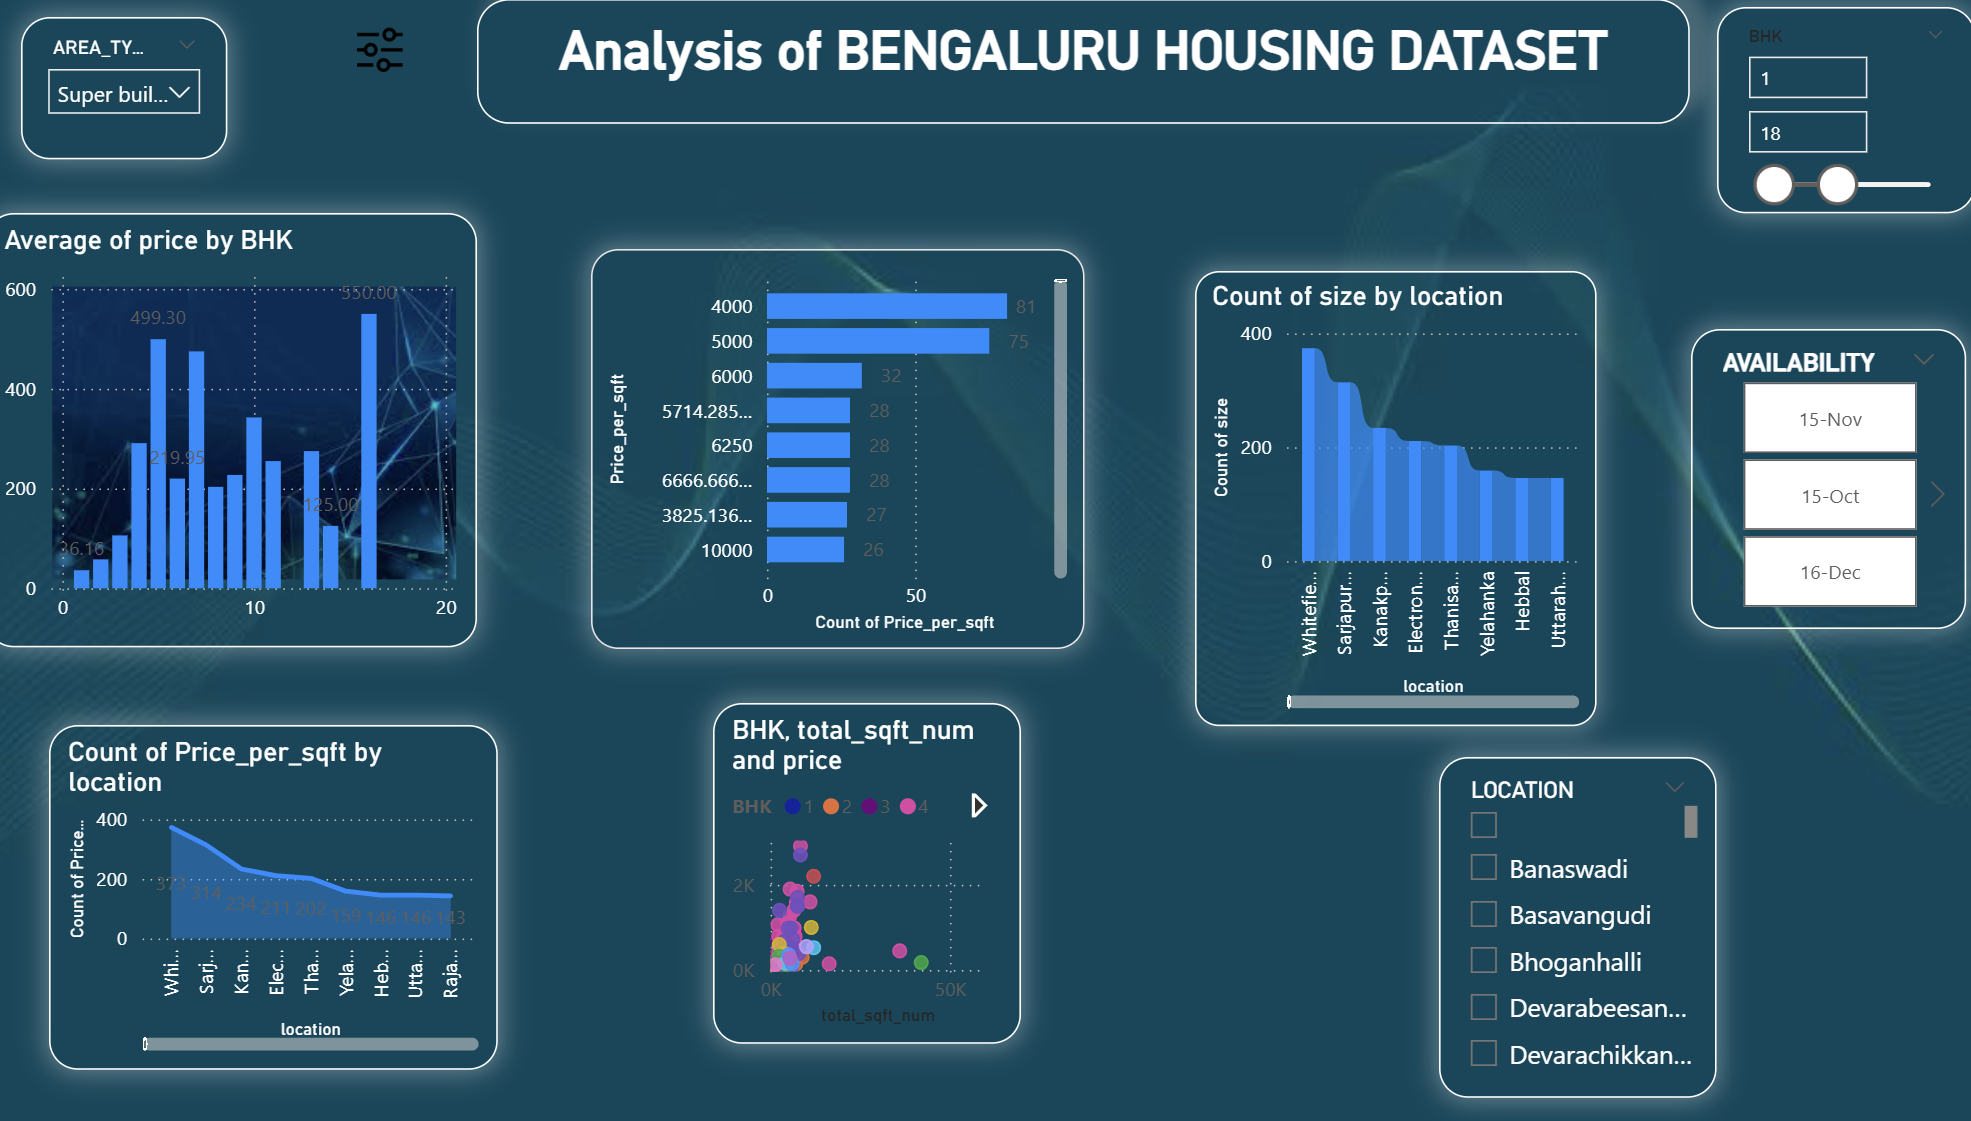

The page's visual inventory and layout, read from the dashboard file:
{"tool":"powerbi","page":{"name":"Dashboard","canvas":[1280,720],"ordinal":0},"visuals":[{"type":"textbox","box":[309,10.5,758.2,78],"z":2000},{"type":"clusteredColumnChart","fields":{"Category":["Bengaluru_House_Data_new.BHK"],"Y":["Avg(Bengaluru_House_Data_new.price)"]},"box":[1.3,144.1,307.3,271.6],"z":3000},{"type":"clusteredBarChart","fields":{"Category":["Bengaluru_House_Data_new.Price_per_sqft"],"Y":["CountNonNull(Bengaluru_House_Data_new.Price_per_sqft)"]},"box":[379.9,165.7,308.5,249.9],"z":4000},{"type":"ribbonChart","fields":{"Category":["Bengaluru_House_Data_new.location"],"Y":["CountNonNull(Bengaluru_House_Data_new.size)"]},"box":[757.3,179.8,251.2,284.3],"z":5000},{"type":"stackedAreaChart","fields":{"Category":["Bengaluru_House_Data_new.location"],"Y":["CountNonNull(Bengaluru_House_Data_new.Price_per_sqft)"]},"box":[40.8,464.1,280.5,215.5],"z":6000},{"type":"scatterChart","fields":{"X":["Bengaluru_House_Data_new.total_sqft_num"],"Y":["Bengaluru_House_Data_new.price"],"Series":["Bengaluru_House_Data_new.BHK"]},"box":[456.4,450,192.5,212.9],"z":7000},{"type":"slicer","fields":{"Values":["Bengaluru_House_Data_new.location"]},"box":[910.3,483.2,173.4,212.9],"z":8000},{"type":"slicer","fields":{"Values":["Bengaluru_House_Data_new.BHK"]},"box":[1083.8,15,161.2,128.8],"z":9000},{"type":"slicer","fields":{"Values":["Bengaluru_House_Data_new.area_type"]},"box":[24.2,21.7,128.8,89.2],"z":10000},{"type":"slicer","fields":{"Values":["Bengaluru_House_Data_new.availability"]},"box":[1067.1,216.7,172.1,187.4],"z":11000}]}

Visuals, with their boxes in screenshot pixels (x1, y1, x2, y2), scaled from the page's 1280x720 canvas onto the 1971x1121 screenshot:
textbox: {"x1": 476, "y1": 16, "x2": 1643, "y2": 138}
clusteredColumnChart - Bengaluru_House_Data_new.BHK x Avg(Bengaluru_House_Data_new.price): {"x1": 2, "y1": 224, "x2": 475, "y2": 647}
clusteredBarChart - Bengaluru_House_Data_new.Price_per_sqft x CountNonNull(Bengaluru_House_Data_new.Price_per_sqft): {"x1": 585, "y1": 258, "x2": 1060, "y2": 647}
ribbonChart - Bengaluru_House_Data_new.location x CountNonNull(Bengaluru_House_Data_new.size): {"x1": 1166, "y1": 280, "x2": 1553, "y2": 723}
stackedAreaChart - Bengaluru_House_Data_new.location x CountNonNull(Bengaluru_House_Data_new.Price_per_sqft): {"x1": 63, "y1": 723, "x2": 495, "y2": 1058}
scatterChart - Bengaluru_House_Data_new.total_sqft_num x Bengaluru_House_Data_new.price: {"x1": 703, "y1": 701, "x2": 999, "y2": 1032}
slicer - Bengaluru_House_Data_new.location: {"x1": 1402, "y1": 752, "x2": 1669, "y2": 1084}
slicer - Bengaluru_House_Data_new.BHK: {"x1": 1669, "y1": 23, "x2": 1917, "y2": 224}
slicer - Bengaluru_House_Data_new.area_type: {"x1": 37, "y1": 34, "x2": 236, "y2": 173}
slicer - Bengaluru_House_Data_new.availability: {"x1": 1643, "y1": 337, "x2": 1908, "y2": 629}
